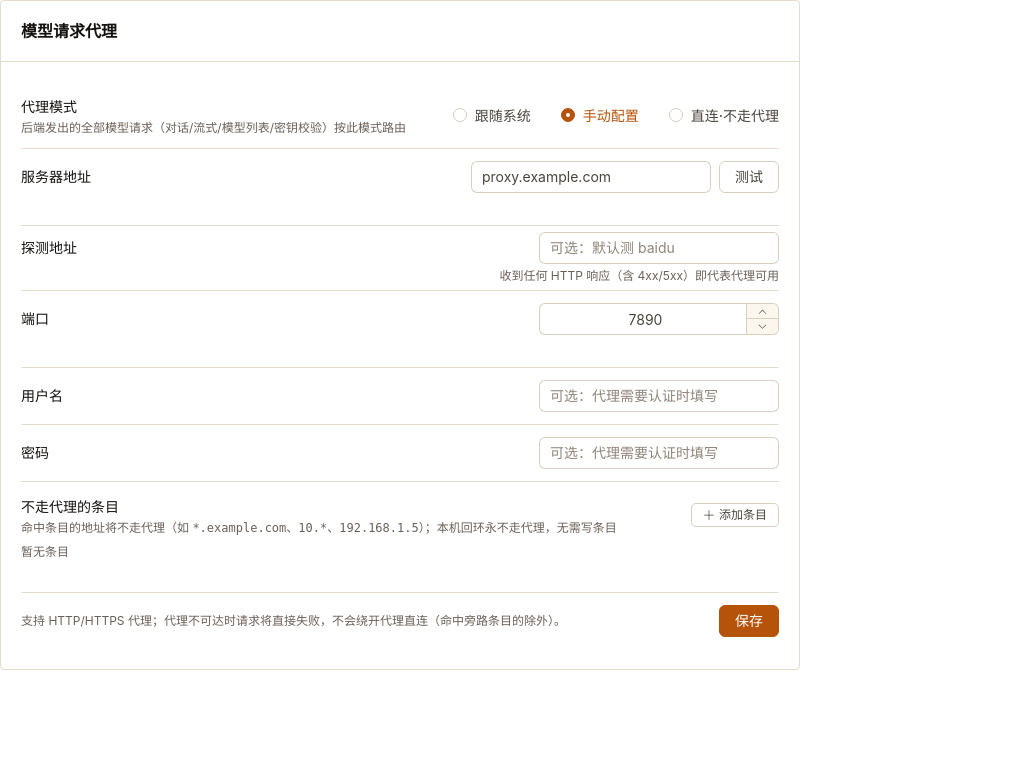
NetworkPanel › 测试成功：任何 HTTP 响应=代理可用，行内反馈含状态码与延迟
This screenshot has width=1024, height=768.
Click the button with test id "proxy-test-btn". click: (749, 177)
box: [719,161,779,193]
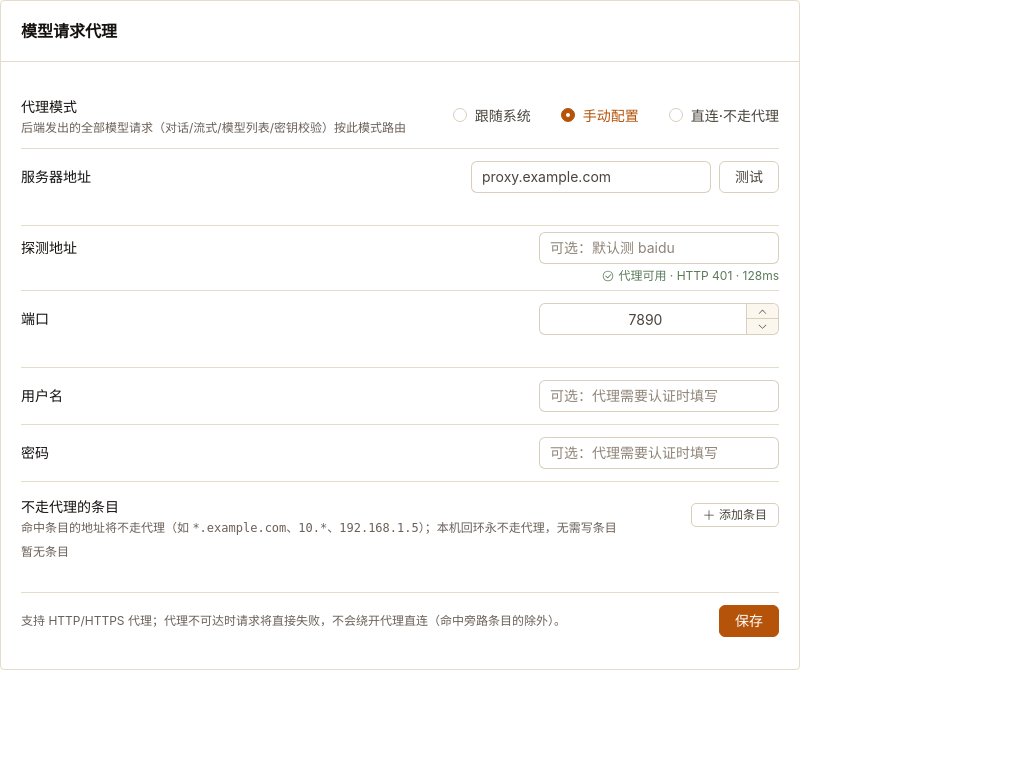
Expected: the element with test id "proxy-test-feedback" shows "代理可用", [618,268,779,283]
Expected: the element with test id "proxy-test-feedback" shows "HTTP 401", [618,268,779,283]
Expected: the element with test id "proxy-test-feedback" shows "128ms", [618,268,779,283]
